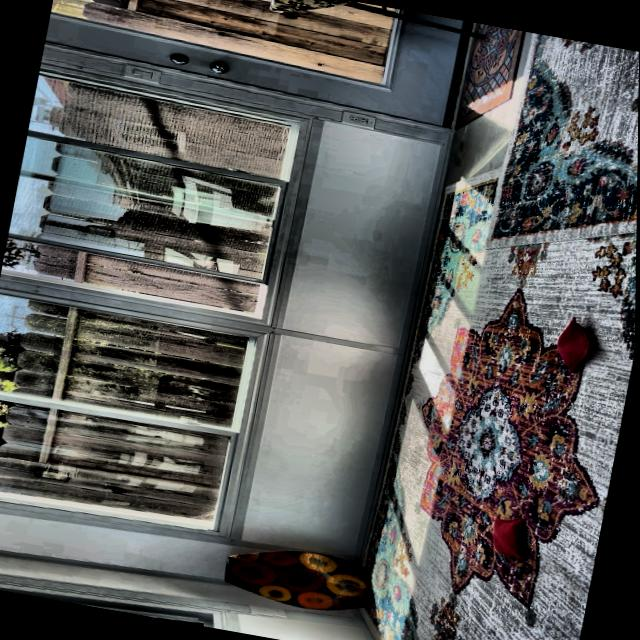red-bean-bag: (549, 314, 599, 375), (487, 513, 533, 560)
